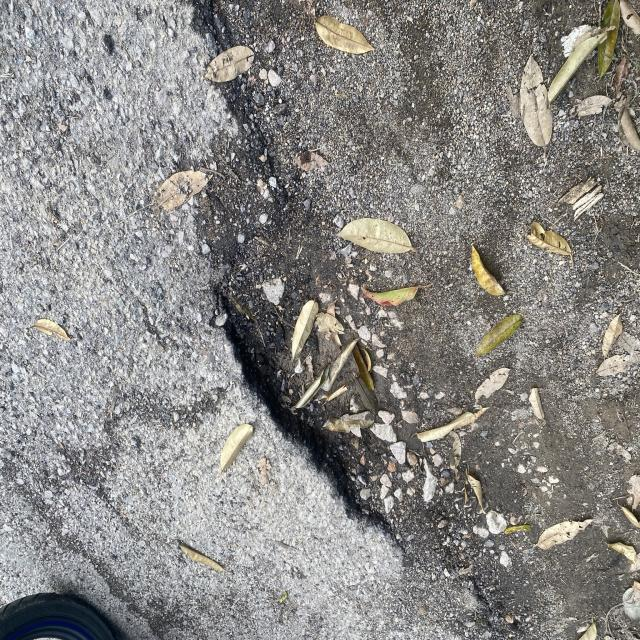pothole: (195, 203, 397, 575)
